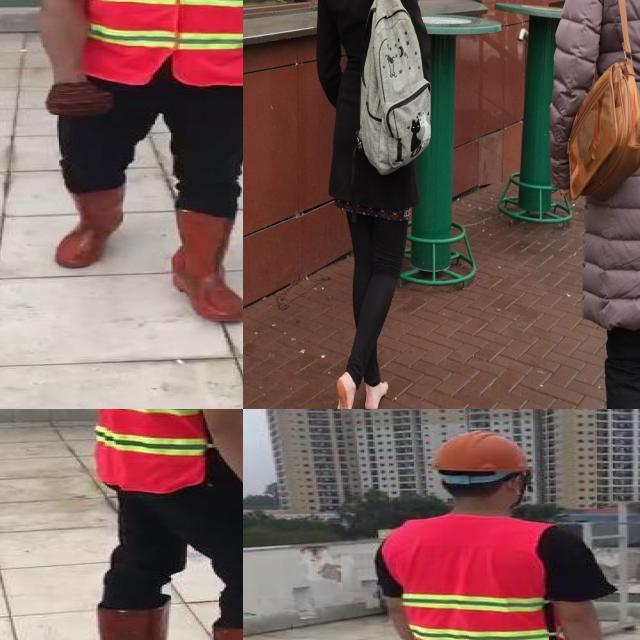Barefoots: (364, 381, 388, 409), (333, 374, 351, 409)
boots: (167, 207, 243, 323), (55, 187, 125, 268), (94, 601, 213, 640)
hand_glove: (46, 83, 112, 116)
head_helmet: (74, 409, 243, 640), (421, 428, 533, 476)
person: (22, 0, 243, 330), (368, 427, 613, 640)
vest: (382, 515, 558, 640), (78, 0, 243, 88), (85, 409, 243, 492)
